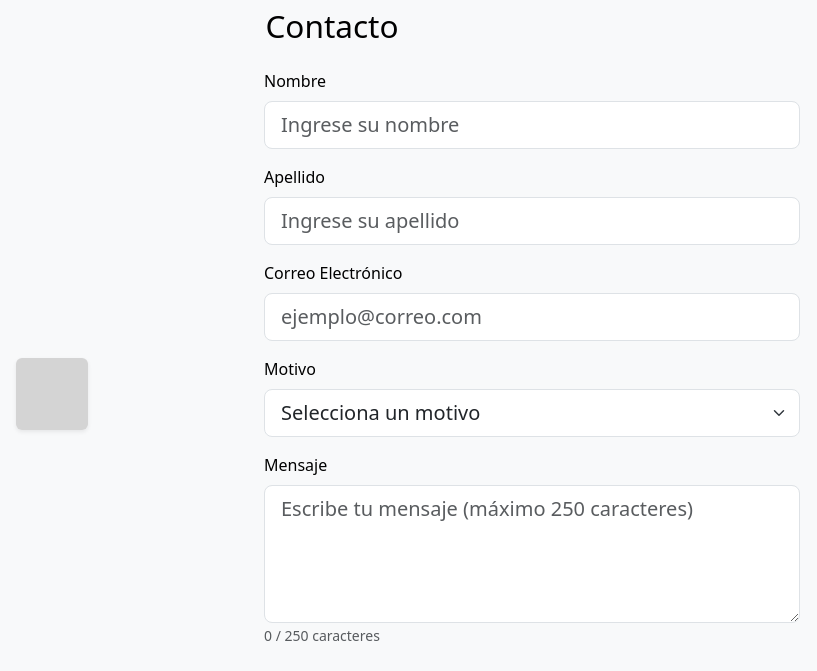
Test: Componente Contacto › no permite ingresar números en nombre y apellido
In the field labelled "Nombre": {"x": 532, "y": 125} [264,101,800,149], type "Pablo123"
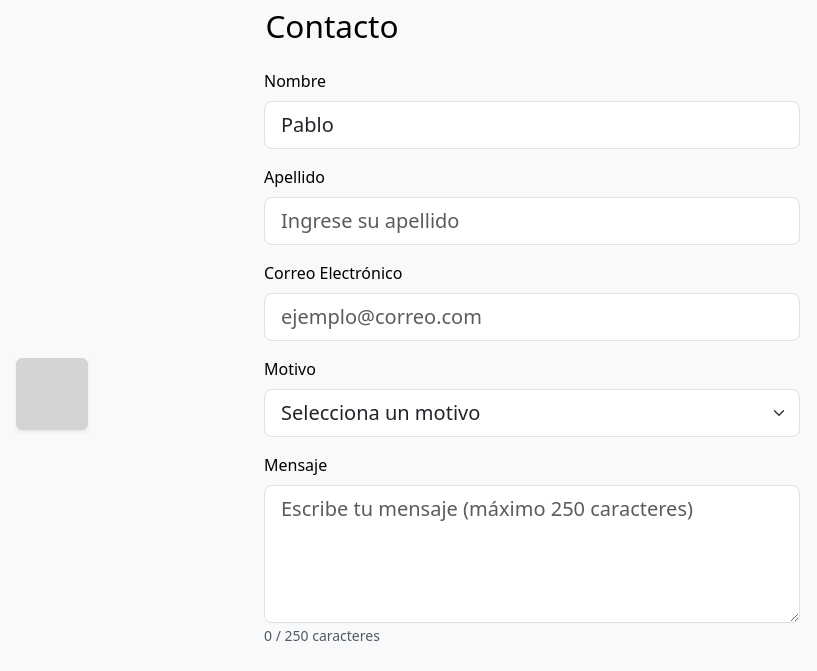
In the field labelled "Apellido": {"x": 532, "y": 221} [264,197,800,245], type "Jiménez456"
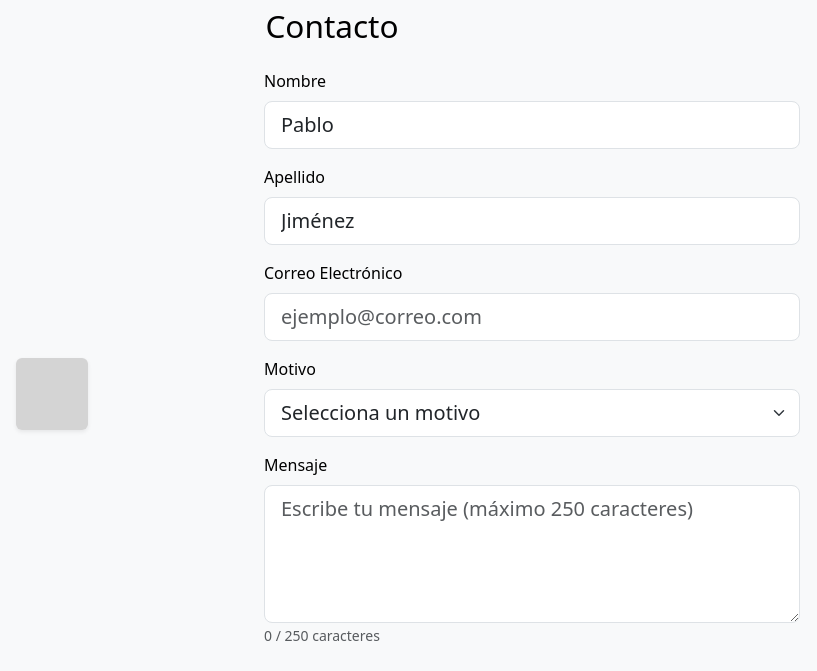
Expected: the field labelled "Nombre" holds "Pablo", [264,101,800,149]
Expected: the field labelled "Apellido" holds "Jiménez", [264,197,800,245]
